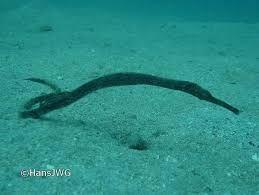Long-Snouted Pipefish: (21, 63, 242, 140)
